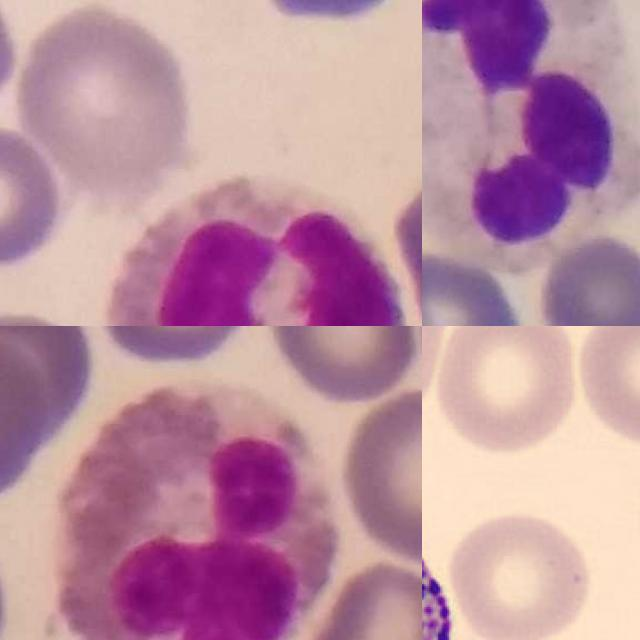Eosinophil: (51, 383, 339, 640), (112, 176, 402, 326)
Neutrophil: (422, 0, 640, 247)
RBC: (443, 505, 596, 640), (431, 326, 582, 457), (571, 326, 640, 453)
